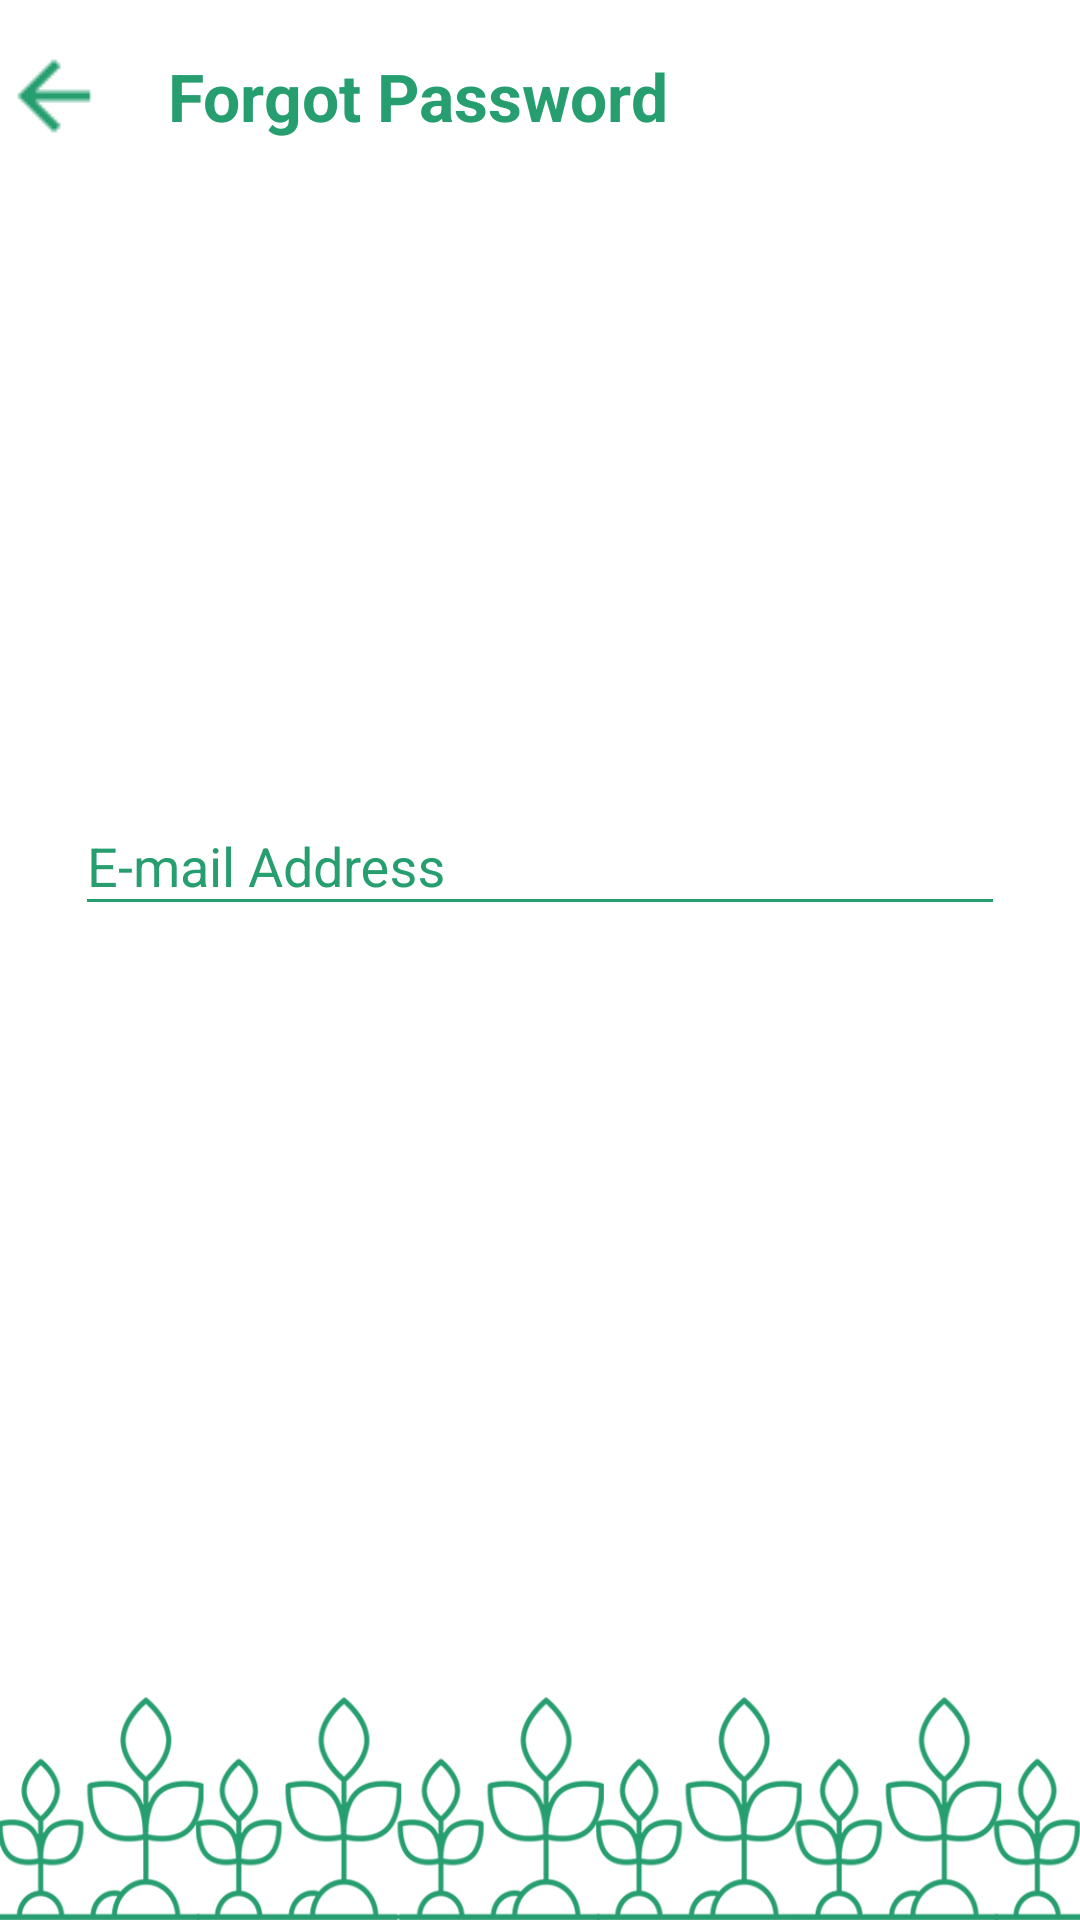

Where to tap for icons on this 1080px×1920px app screen, as (x,y):
arrow back: (54,96)
